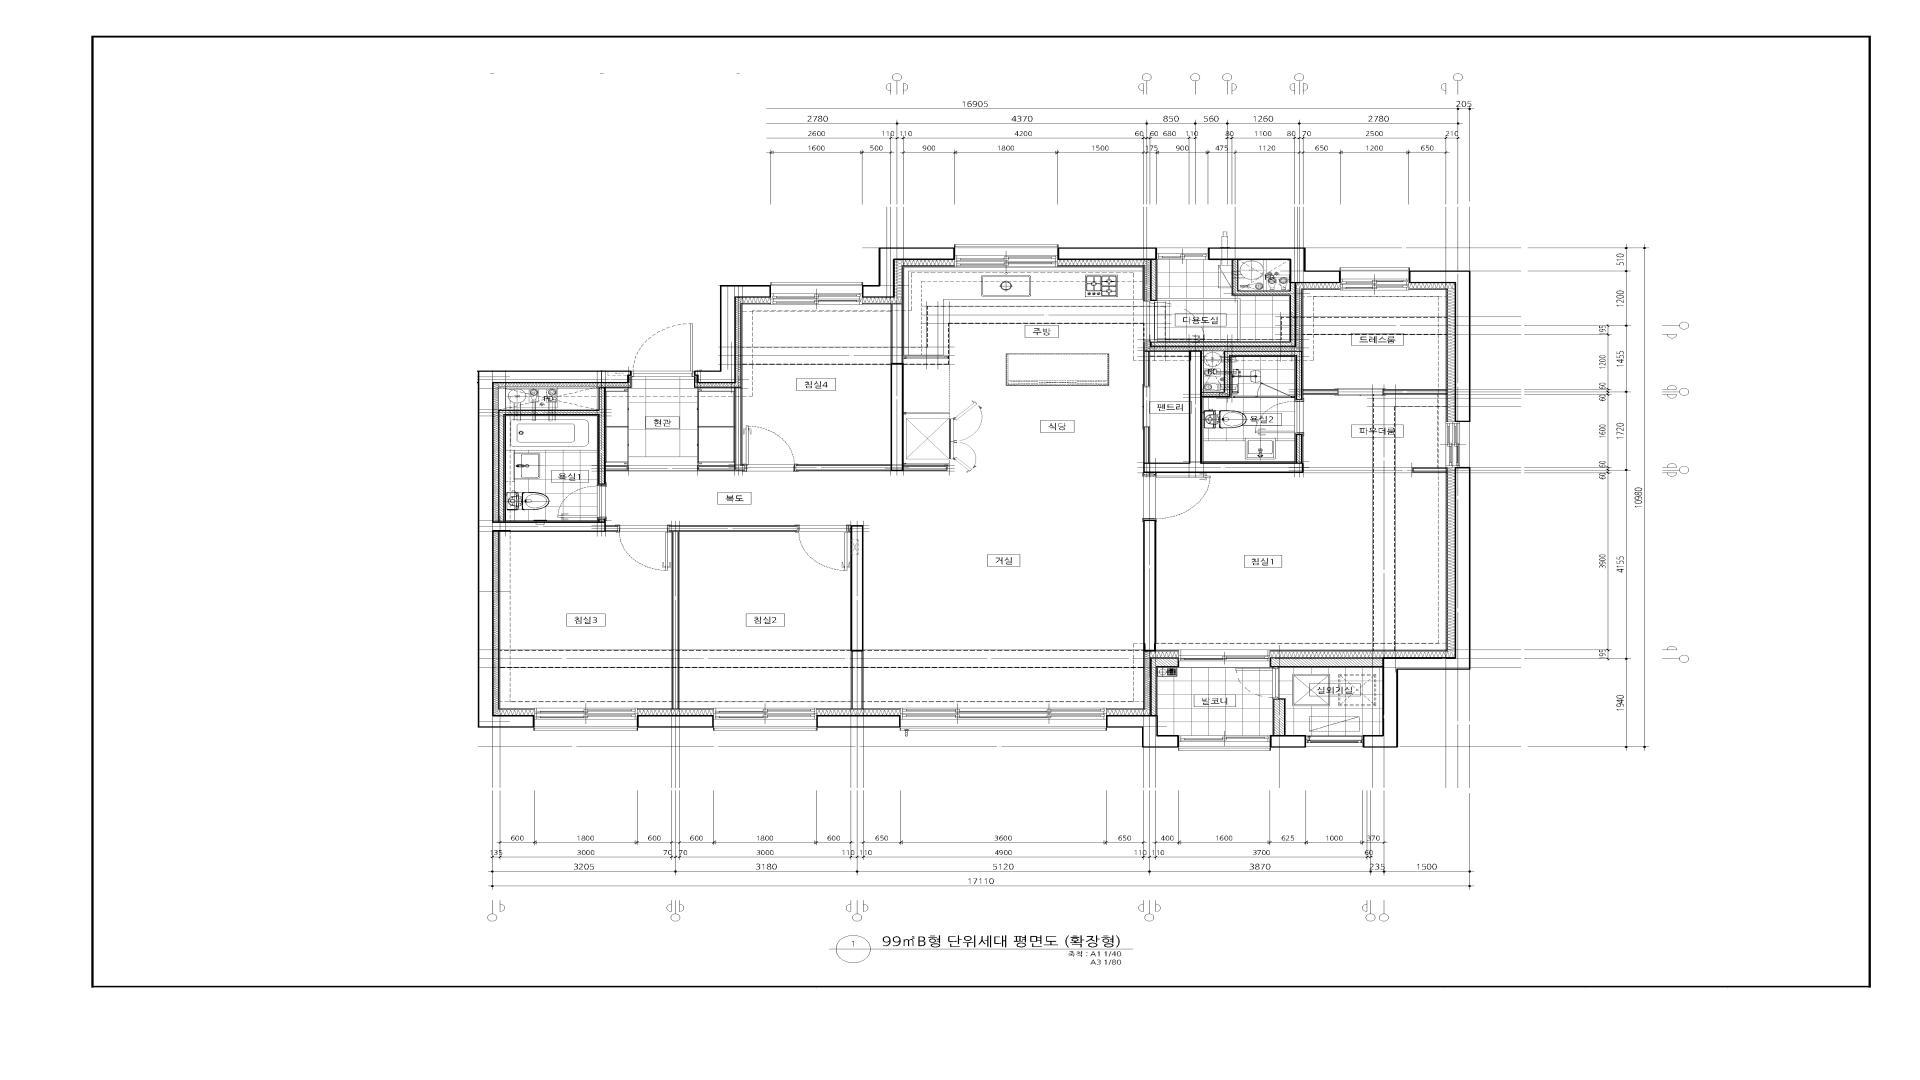background: (1, 0, 1920, 1077)
door: (632, 323, 695, 377), (1142, 473, 1211, 520), (1143, 301, 1205, 342), (745, 426, 796, 472), (798, 525, 849, 571), (618, 525, 669, 571), (1255, 400, 1304, 434), (558, 485, 607, 518), (1236, 669, 1280, 699), (1255, 382, 1295, 398), (1142, 386, 1150, 427), (1337, 389, 1383, 396)
wall: (477, 371, 632, 728), (1362, 467, 1470, 748), (796, 303, 948, 471), (669, 525, 798, 709), (1143, 351, 1337, 473), (498, 386, 629, 521), (1150, 260, 1296, 347), (1408, 270, 1470, 422), (694, 285, 771, 384), (1208, 248, 1341, 284), (862, 248, 955, 298), (698, 386, 745, 471), (851, 525, 864, 709), (1106, 715, 1179, 748), (1143, 520, 1156, 651), (1150, 658, 1179, 715), (1058, 248, 1156, 260), (816, 715, 901, 728), (1270, 658, 1382, 667), (637, 715, 713, 728), (1270, 735, 1305, 748), (1273, 699, 1286, 735), (1383, 389, 1447, 394), (1150, 260, 1156, 301), (1143, 351, 1150, 386), (1411, 467, 1447, 472), (607, 525, 618, 531), (1232, 396, 1255, 398), (599, 518, 605, 521), (849, 525, 851, 531)
window: (901, 708, 1106, 731), (713, 708, 816, 731), (955, 244, 1058, 266), (535, 708, 637, 731), (771, 282, 862, 305), (1179, 650, 1270, 669), (1341, 268, 1408, 290), (1179, 736, 1270, 750), (1445, 422, 1470, 467), (1305, 736, 1362, 748), (1158, 248, 1208, 260)
